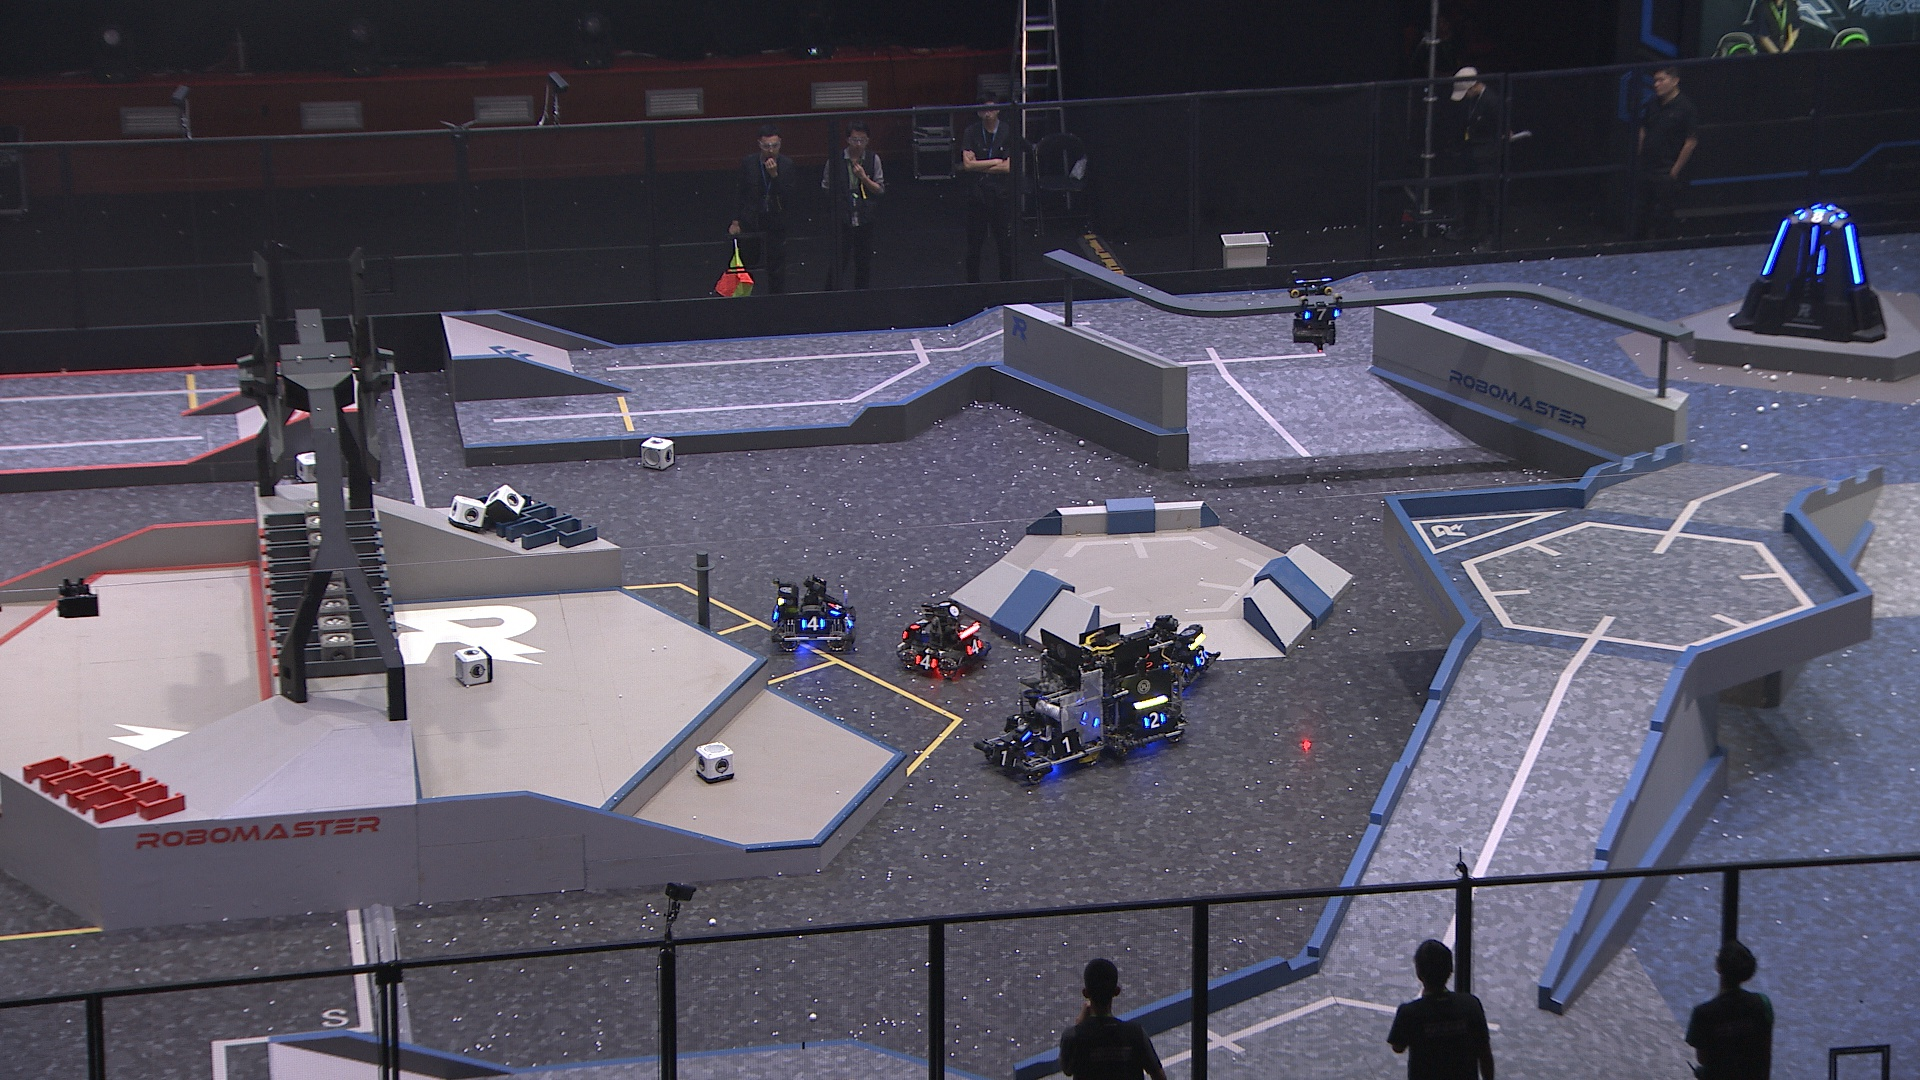armor: (1760, 215, 1787, 277), (1844, 224, 1863, 287), (1048, 733, 1083, 756), (988, 746, 1017, 771), (1302, 305, 1342, 322), (1797, 208, 1836, 225), (1005, 731, 1034, 750), (799, 616, 828, 633), (1145, 711, 1168, 731), (915, 651, 939, 670), (1809, 224, 1821, 258), (965, 637, 982, 657), (909, 615, 928, 632), (827, 597, 844, 616), (1195, 647, 1209, 666)
base: (1727, 199, 1890, 342)
car: (972, 632, 1109, 782), (1079, 622, 1187, 756), (766, 571, 858, 661), (895, 600, 992, 678), (1135, 616, 1222, 692)
watcher: (1288, 273, 1342, 351)
